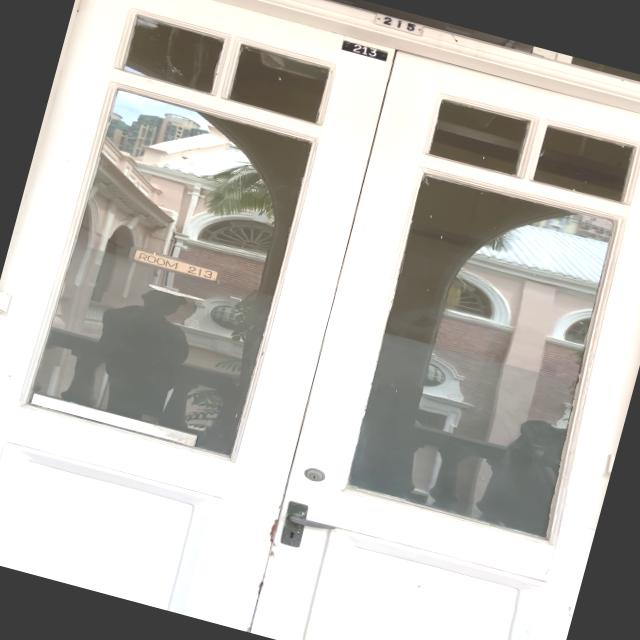room213: (336, 34, 392, 63)
